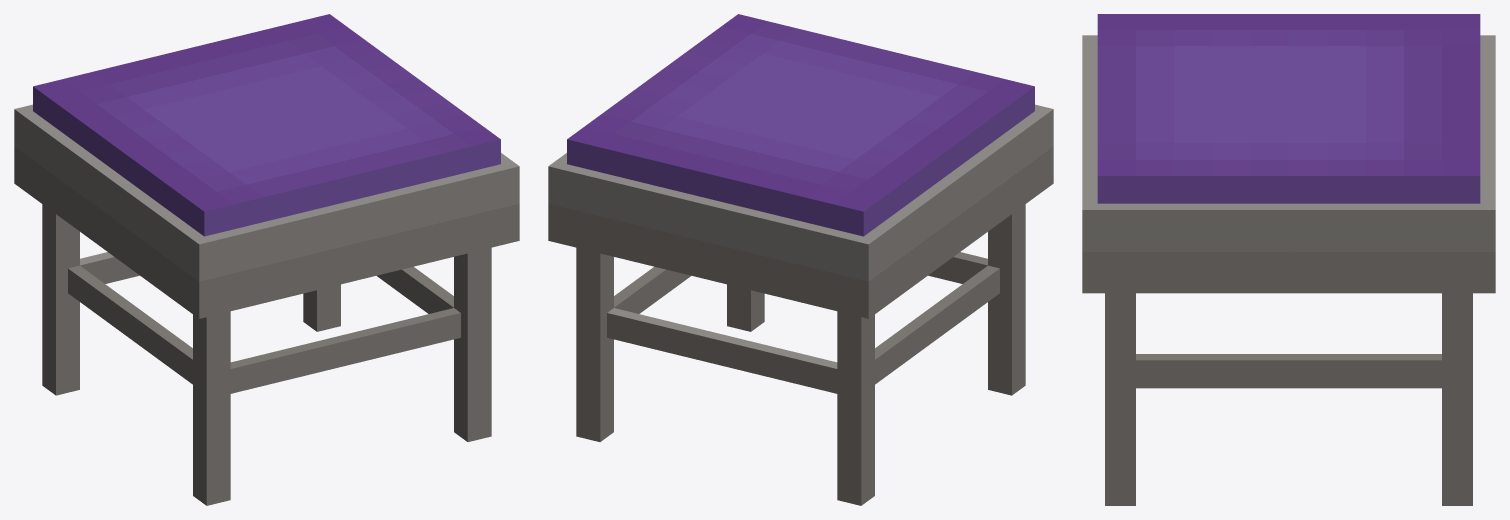
File: Bar Stool.gltf
The picture shows the model from 3 angles, left to right: view 1: azimuth 30°, elevation 25°; view 2: azimuth 150°, elevation 25°; view 3: azimuth 270°, elevation 25°; orthographic projection. The views are drawn at different scales.
Parts seen in each view (by area): view 1: cube (×10); view 2: cube (×10); view 3: cube (×5).
Part boxes in pixels (x1,y1,x2,y2): cube (×10): [14, 14, 519, 505]; cube (×10): [548, 14, 1053, 505]; cube (×5): [1082, 14, 1495, 505].
Bounding box in the file's own units: 0.1688 × 0.1501 × 0.1688.
Materials: 1 (1 with a texture image).
